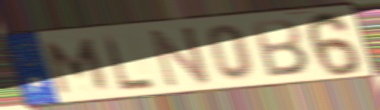0: (205, 22, 258, 82)
6: (303, 8, 365, 78)
B: (249, 17, 312, 79)
L: (99, 32, 157, 93)
M: (43, 37, 112, 97)
N: (146, 24, 215, 91)
